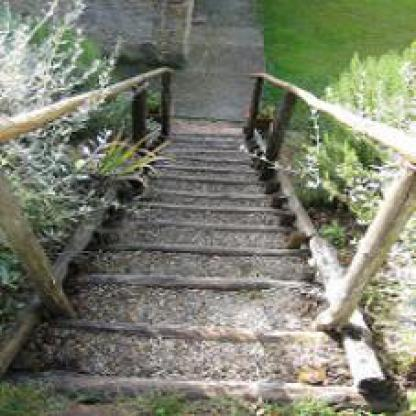stair_down: (50, 271, 322, 396)
